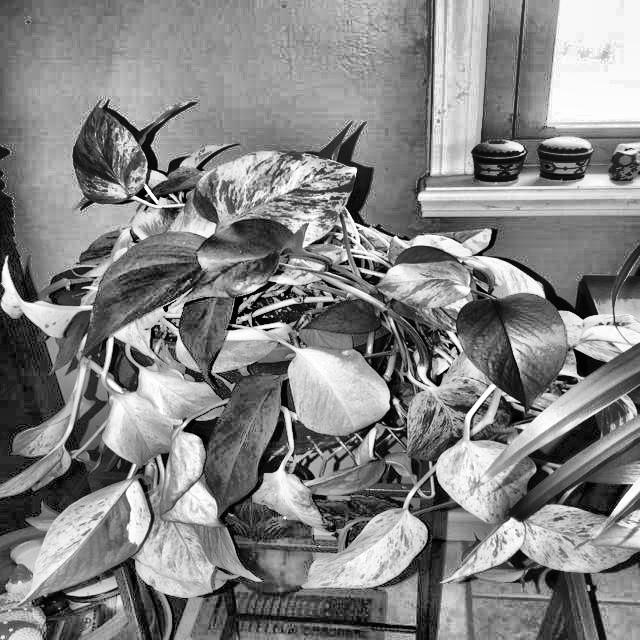plants: (51, 99, 472, 596), (485, 506, 640, 596)
